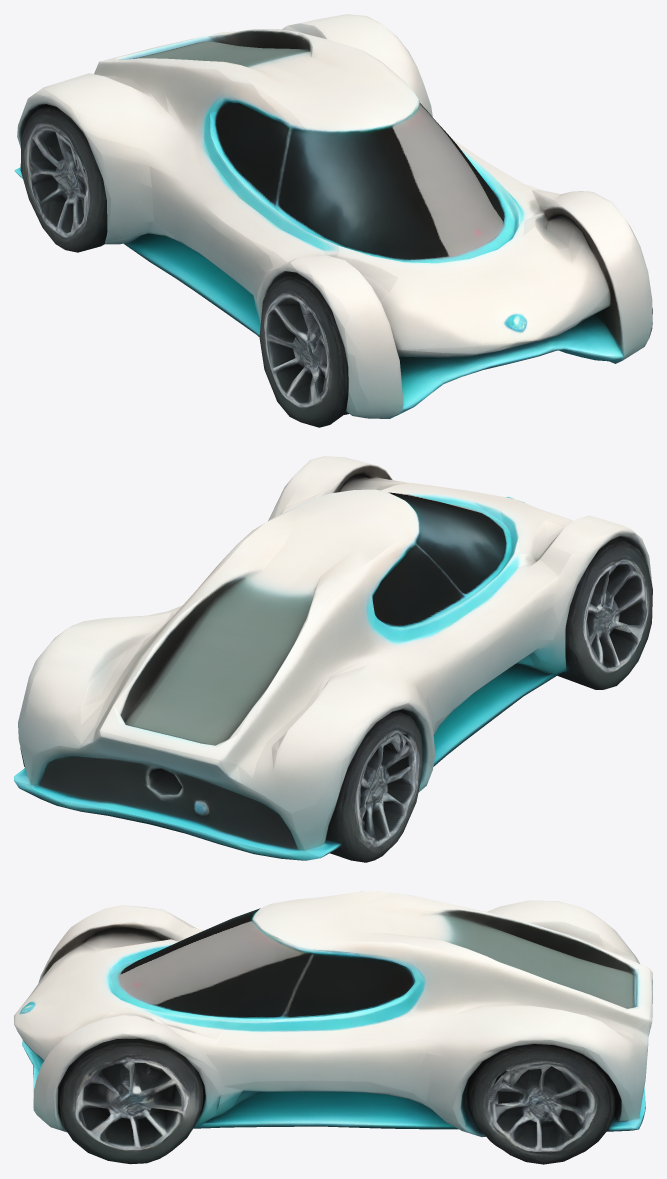
3 views of the same model, one above another, from view 1: azimuth 30°, elevation 25°; view 2: azimuth 150°, elevation 25°; view 3: azimuth 270°, elevation 25° (orthographic). The views are drawn at different scales.
Parts seen in each view (by area): view 1: model; view 2: model; view 3: model.
Part boxes in pixels (left/top/right/bottom): model: left=14, top=14, right=652, bottom=427; model: left=14, top=456, right=652, bottom=862; model: left=14, top=891, right=652, bottom=1164.
Bounding box in the file's own units: 1 × 0.6124 × 1.9.
Materials: 1 (1 with a texture image).
